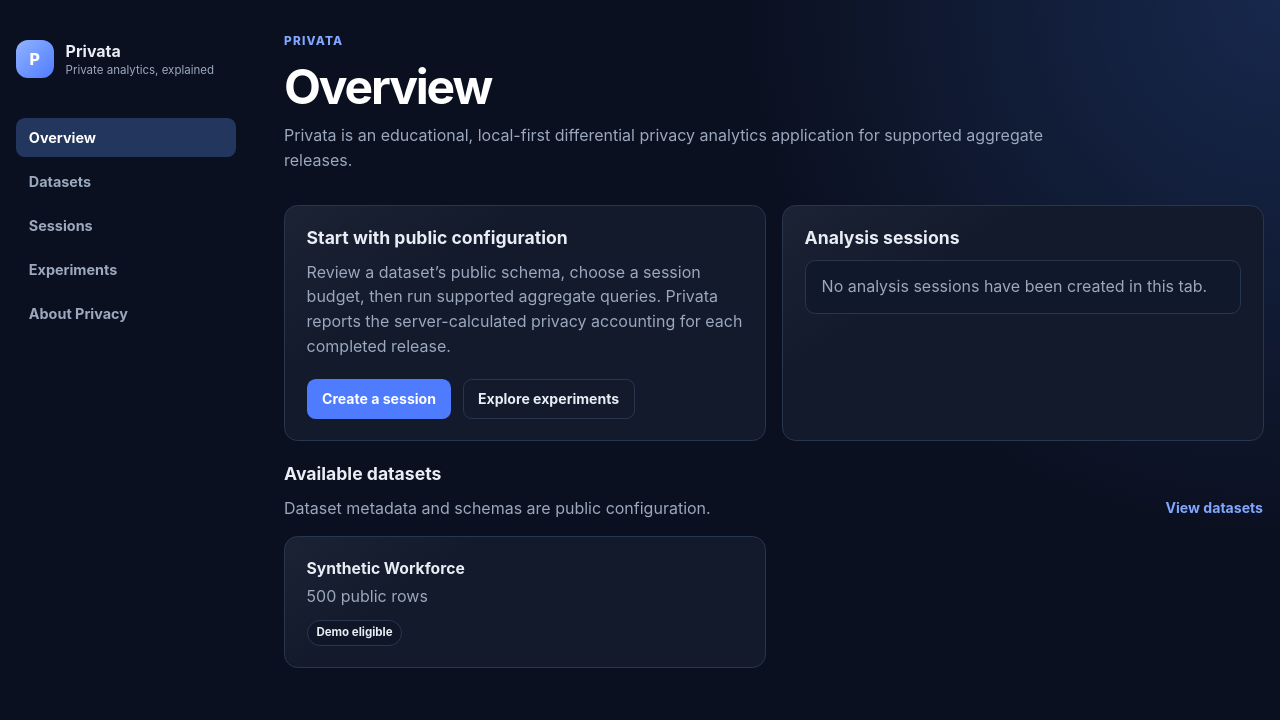
Scenario: Privata frontend › displays API-returned demo truth after a successful query
Click the link "Sessions" at [61, 226], box [29,217,93,234]
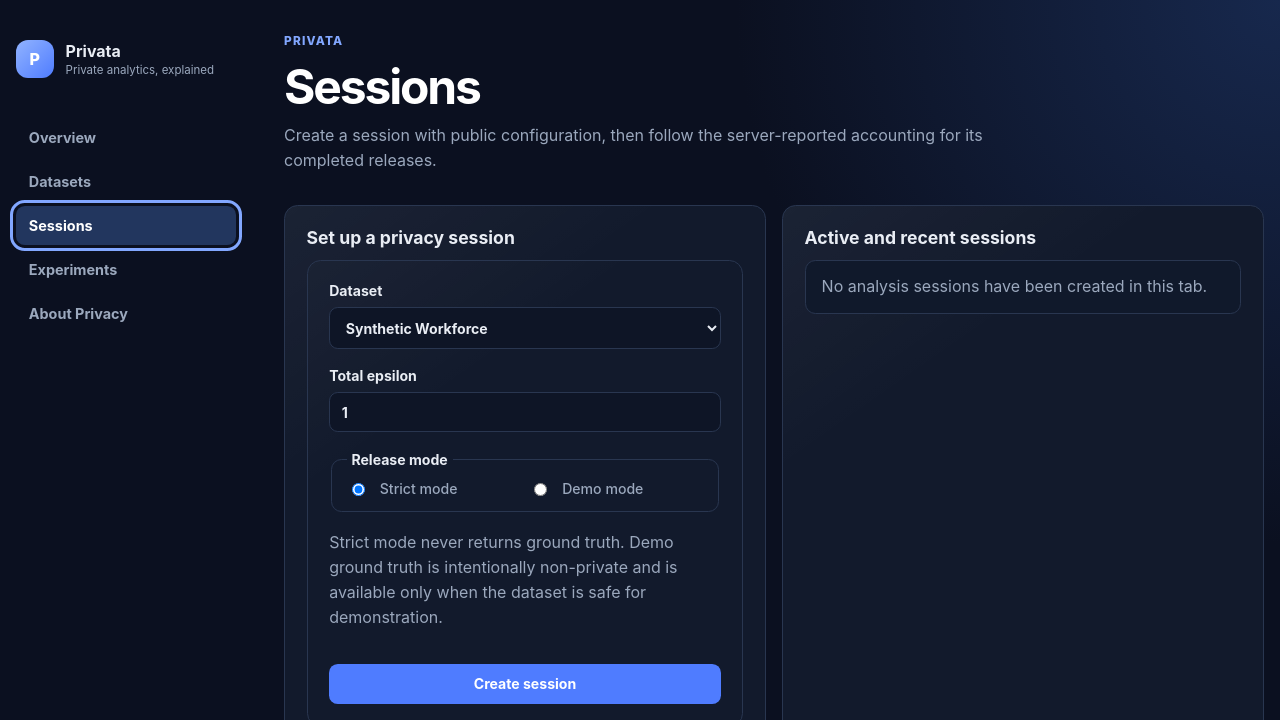
Check: the heading "Set up a privacy session" is shown, box [307,227,515,248]
Click the radio button labelled "Demo mode" at [540, 490], box [534,483,547,496]
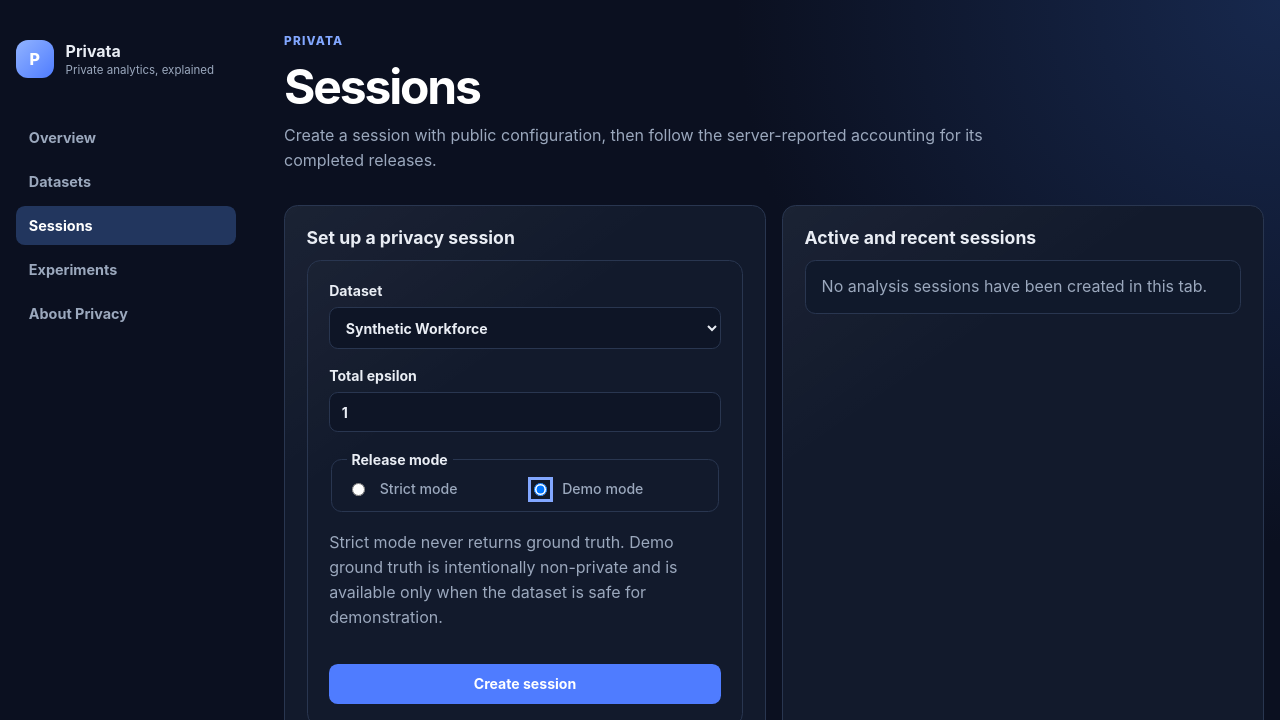
Click the button "Create session" at [525, 684], box [329,664,721,704]
(page scrolled)
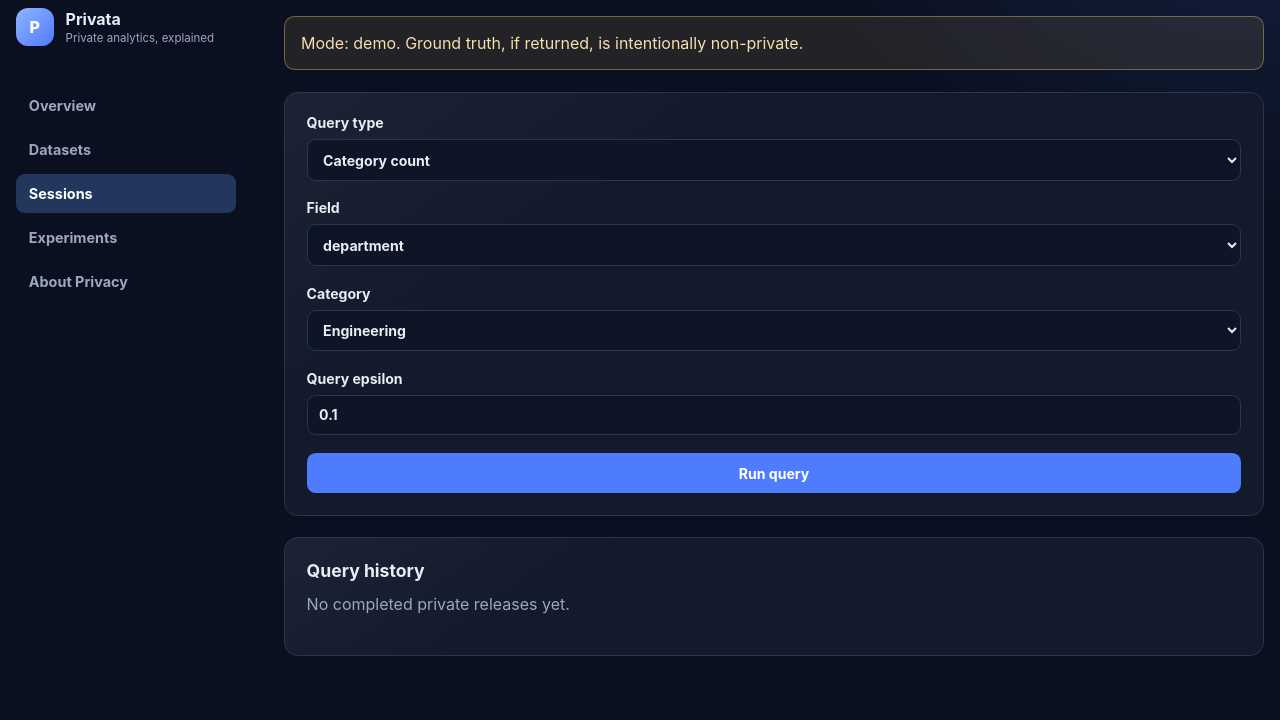
Check: the dropdown labelled "Query type" is shown, box [307,139,1241,181]
Click the button "Run query" at [774, 473], box [307,453,1241,493]
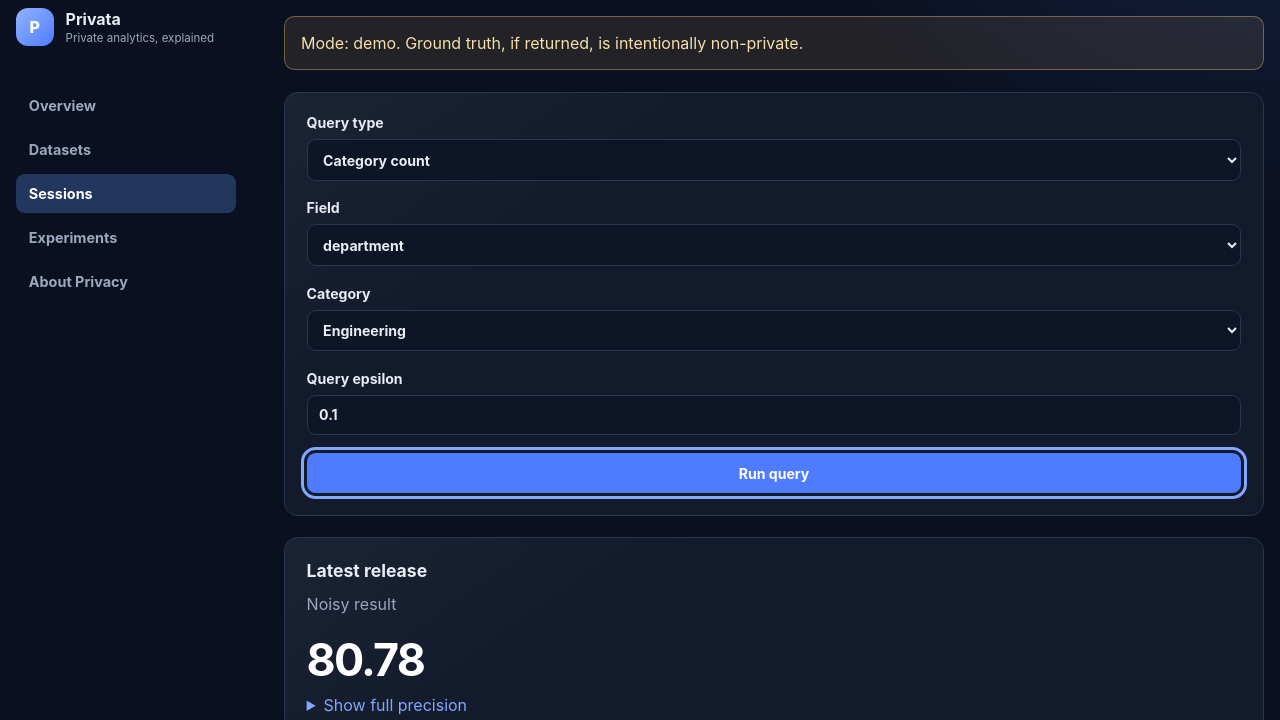
Check: the text "80.78" is shown, box [307,633,424,687]
Check: the text "Noisy result" is shown, box [307,594,396,614]
Check: the heading "Show full precision" is shown, box [324,695,467,715]
Click the link "Overview" at [62, 105], box [29,97,96,114]
(page scrolled)
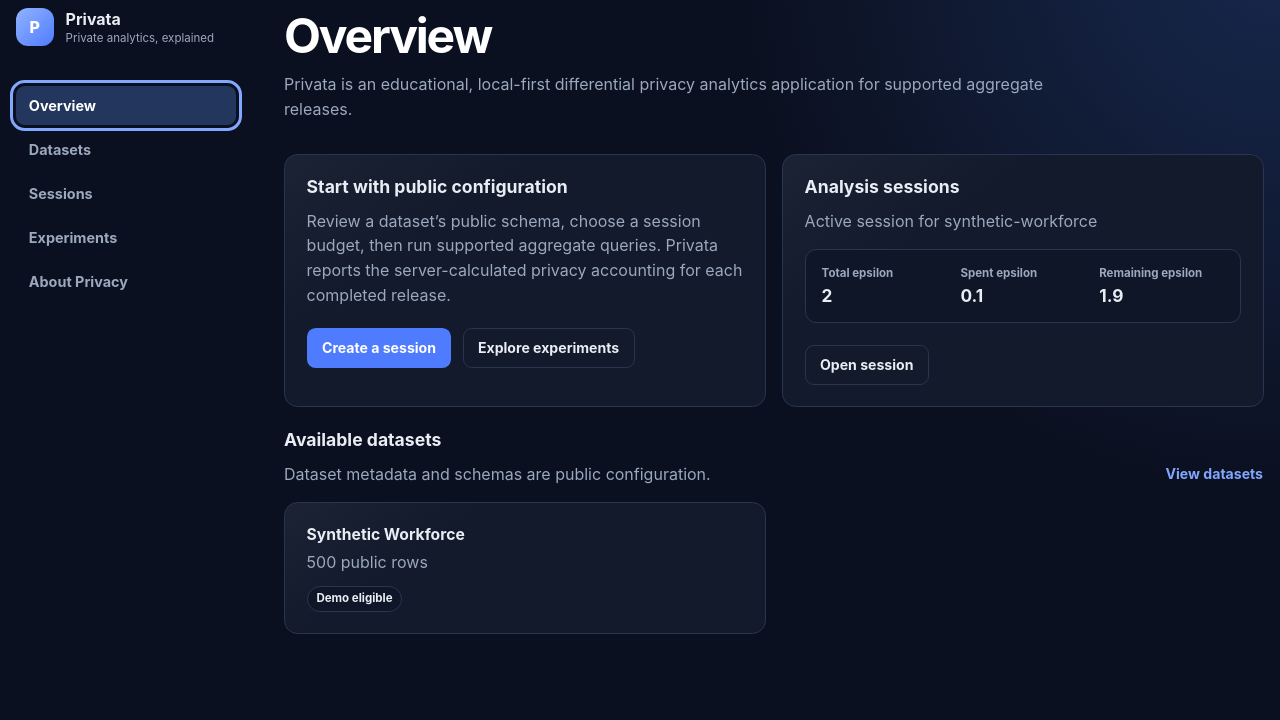
Check: the text "Active session for synthetic-workforce" is shown, box [805,211,1097,231]
